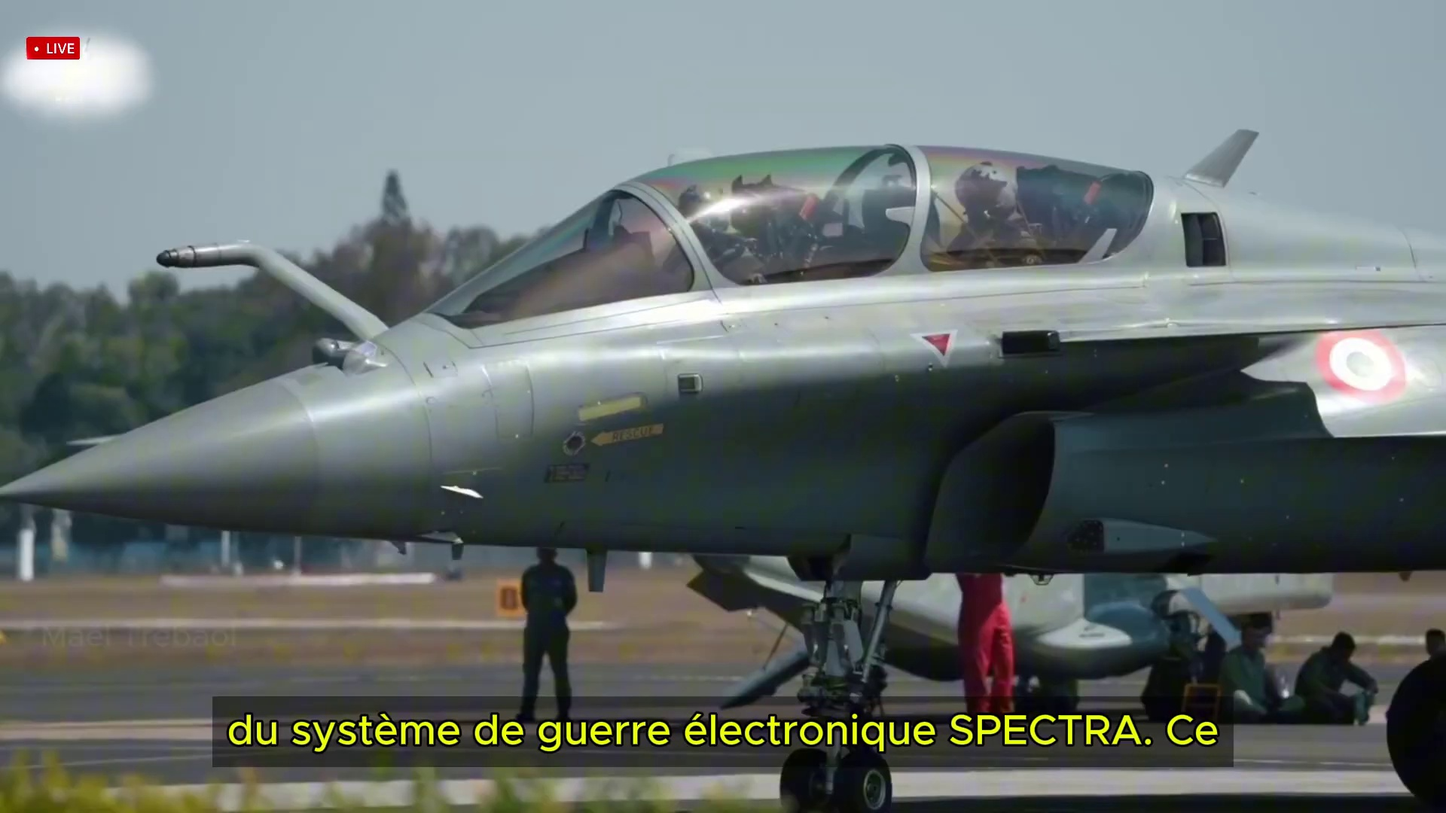Rafale: (31, 119, 1446, 798)
